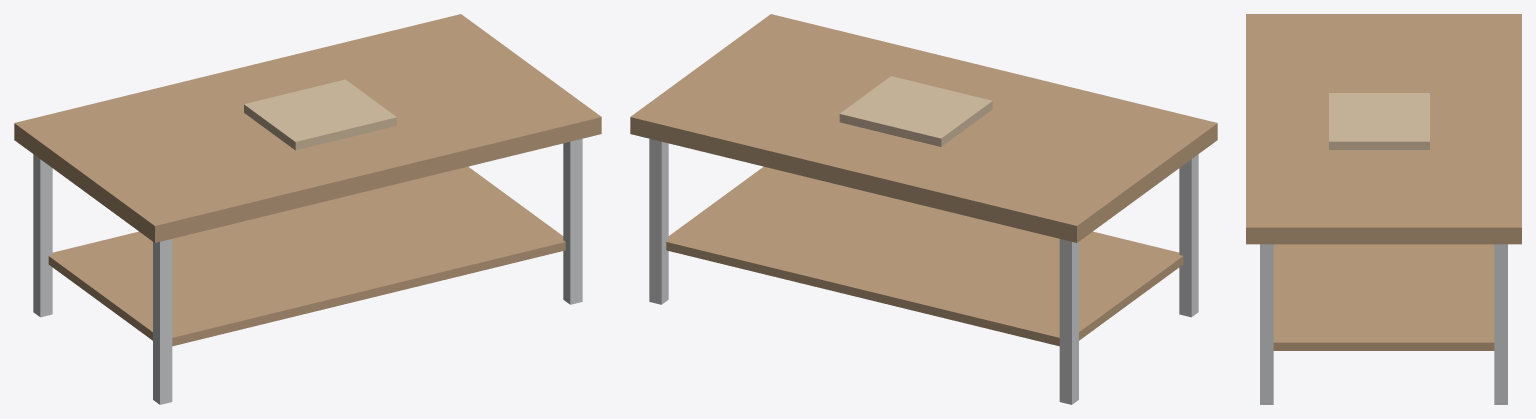
The model's file is Table_Coffee.fbx.
3 views of the same model, side by side, from view 1: azimuth 30°, elevation 25°; view 2: azimuth 150°, elevation 25°; view 3: azimuth 270°, elevation 25° (orthographic). The views are drawn at different scales.
Parts seen in each view (by area): view 1: Table_Coffee; view 2: Table_Coffee; view 3: Table_Coffee.
Part boxes in pixels (box(x1,y1,x2,y2)): Table_Coffee: box(14, 14, 601, 404); Table_Coffee: box(630, 14, 1217, 404); Table_Coffee: box(1246, 14, 1521, 404).
Size of the model in its own units: 1.1 by 0.46 by 0.6.
